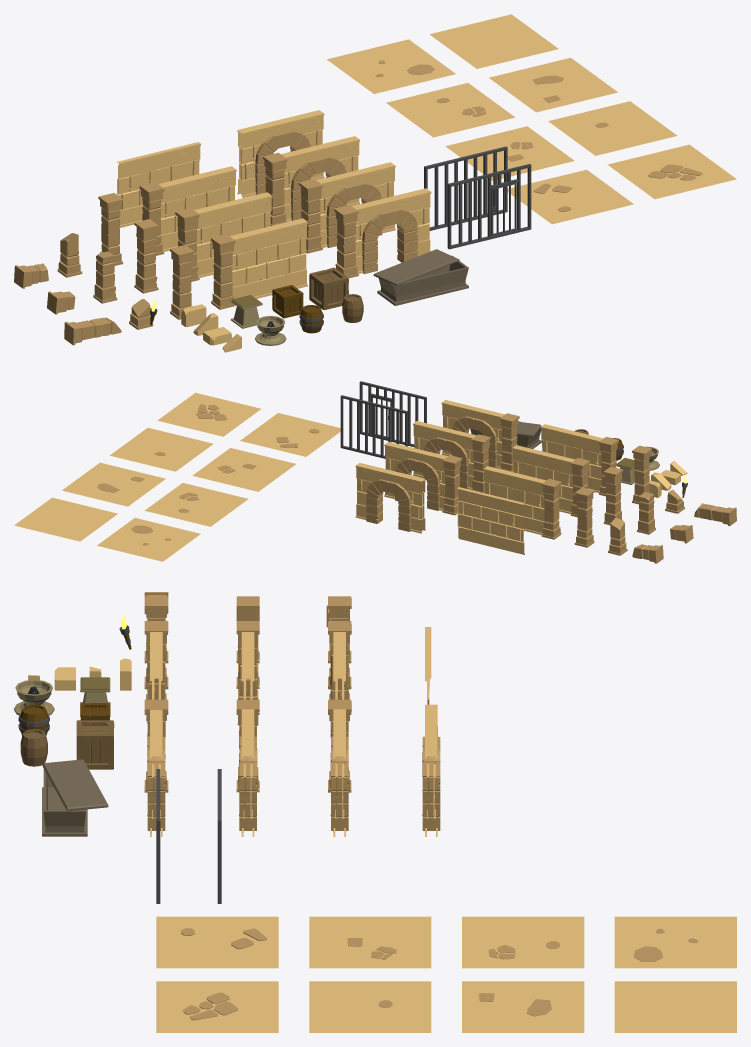
File: ModularDungeonSandBiome-Assets.glb
The picture shows the model from 3 angles, top to bottom: view 1: azimuth 30°, elevation 25°; view 2: azimuth 150°, elevation 25°; view 3: azimuth 270°, elevation 25°; orthographic projection. The views are drawn at different scales.
Visible parts, largest first — view 1: Pillar1Wall1, Pillar1Door, Pillar2Door, Pillar3Door, Pillar2Wall1, Pillar3Wall1, Door1WithoutPillar, Floor1, Floor3, Floor4, Floor8, Floor2 (+21 smaller); view 2: WallwithoutPillar, Door1WithoutPillar, Pillar3Wall1, Pillar3Door, Pillar2Door, Pillar1Door, Pillar2Wall1, Pillar1Wall1, Floor1, Floor4, Floor3, Floor5 (+17 smaller); view 3: Floor7, Floor1, Floor2, Floor5, Floor3, Floor4, Floor6, Floor8, Sarcophagus, Pillar2Door, Pillar3Door, Pillar1Door (+11 smaller).
Boxes of the visible parts, x1=… form: Pillar1Wall1: x1=211, y1=218, x2=307, y2=309; Pillar1Door: x1=334, y1=188, x2=431, y2=278; Pillar2Door: x1=298, y1=162, x2=395, y2=253; Pillar3Door: x1=263, y1=136, x2=359, y2=225; Pillar2Wall1: x1=175, y1=192, x2=272, y2=281; Pillar3Wall1: x1=139, y1=166, x2=236, y2=255; Door1WithoutPillar: x1=237, y1=110, x2=324, y2=197; Floor1: x1=386, y1=83, x2=515, y2=137; Floor3: x1=489, y1=57, x2=617, y2=112; Floor4: x1=548, y1=101, x2=677, y2=155; Floor8: x1=430, y1=14, x2=558, y2=68; Floor2: x1=327, y1=39, x2=455, y2=93; WallwithoutPillar: x1=457, y1=487, x2=524, y2=554; Door1WithoutPillar: x1=355, y1=463, x2=425, y2=533; Pillar3Wall1: x1=483, y1=466, x2=561, y2=539; Pillar3Door: x1=384, y1=442, x2=461, y2=515; Pillar2Door: x1=413, y1=421, x2=490, y2=493; Pillar1Door: x1=441, y1=400, x2=519, y2=472; Pillar2Wall1: x1=512, y1=445, x2=589, y2=517; Pillar1Wall1: x1=541, y1=424, x2=618, y2=496; Floor1: x1=144, y1=483, x2=248, y2=526; Floor4: x1=110, y1=427, x2=213, y2=471; Floor3: x1=62, y1=462, x2=165, y2=506; Floor5: x1=192, y1=448, x2=295, y2=491; Floor7: x1=156, y1=916, x2=278, y2=968; Floor1: x1=462, y1=916, x2=584, y2=968; Floor2: x1=614, y1=916, x2=736, y2=968; Floor5: x1=309, y1=916, x2=431, y2=968; Floor3: x1=462, y1=981, x2=584, y2=1032; Floor4: x1=309, y1=981, x2=431, y2=1032; Floor6: x1=156, y1=981, x2=278, y2=1032; Floor8: x1=614, y1=981, x2=736, y2=1032; Sarcophagus: x1=42, y1=759, x2=108, y2=836; Pillar2Door: x1=236, y1=699, x2=259, y2=836; Pillar3Door: x1=328, y1=699, x2=351, y2=836; Pillar1Door: x1=144, y1=699, x2=168, y2=836.
Bounding box in the file's own units: 32.52 × 3.15 × 23.66.
